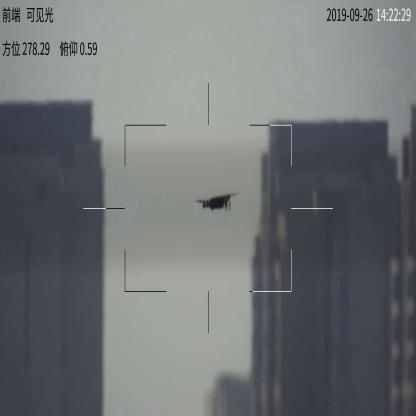uav: (194, 191, 236, 213)
